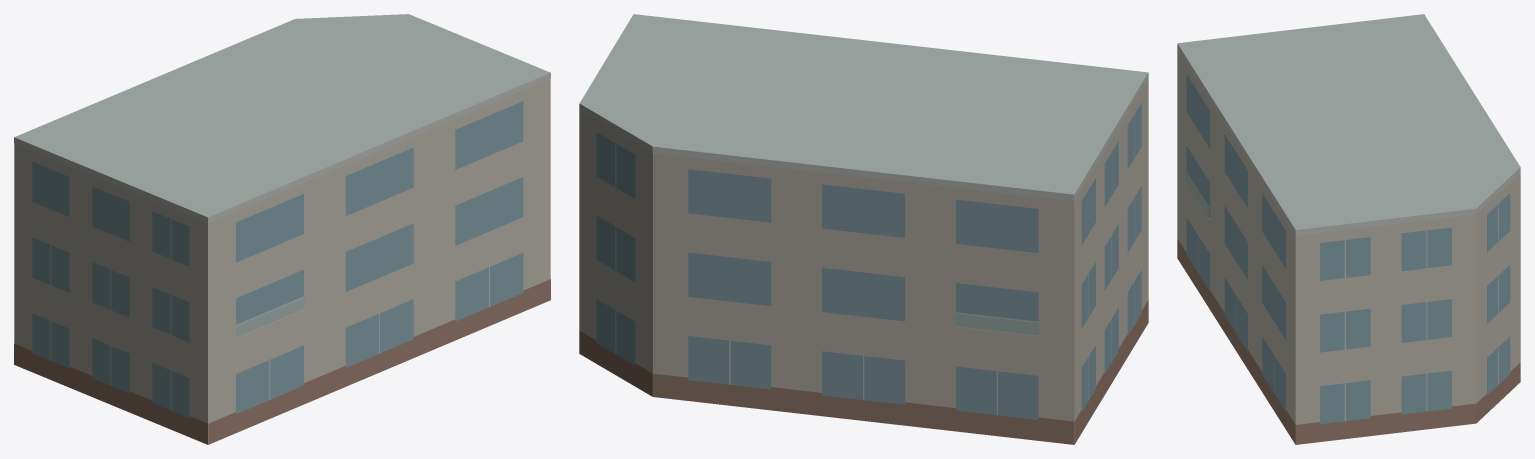
The model's file is survey-upis-32653281.glb.
3 views of the same model, side by side, from view 1: azimuth 30°, elevation 25°; view 2: azimuth 150°, elevation 25°; view 3: azimuth 270°, elevation 25° (orthographic). The views are drawn at different scales.
Visible parts, largest first — view 1: survey-upis-32653281.tmp; view 2: survey-upis-32653281.tmp; view 3: survey-upis-32653281.tmp.
Boxes of the visible parts, left/top/right/bottom form: survey-upis-32653281.tmp: left=14, top=14, right=550, bottom=444; survey-upis-32653281.tmp: left=579, top=14, right=1148, bottom=444; survey-upis-32653281.tmp: left=1177, top=14, right=1520, bottom=444.
Bounding box in the file's own units: 19.74 × 9.15 × 13.26.
